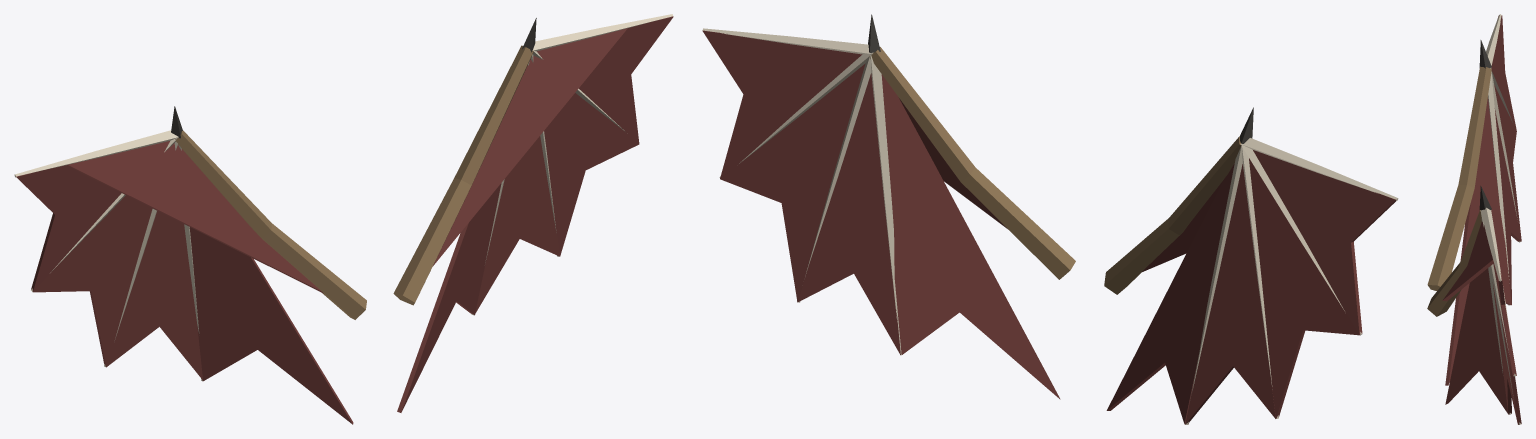
The model's file is demon-wings.glb.
3 views of the same model, side by side, from view 1: azimuth 30°, elevation 25°; view 2: azimuth 150°, elevation 25°; view 3: azimuth 270°, elevation 25° (orthographic). The views are drawn at different scales.
Parts seen in each view (by area): view 1: glide_wing_r, glide_wing_l; view 2: glide_wing_l, glide_wing_r; view 3: glide_wing_r, glide_wing_l.
Part boxes in pixels (box(x1,y1,x2,y2)): glide_wing_r: box(14, 106, 366, 424); glide_wing_l: box(393, 14, 673, 412); glide_wing_l: box(702, 14, 1075, 399); glide_wing_r: box(1104, 107, 1398, 424); glide_wing_r: box(1427, 14, 1521, 385); glide_wing_l: box(1427, 186, 1521, 424).
Size of the model in its own units: 1.29 by 0.6407 by 0.1944.
